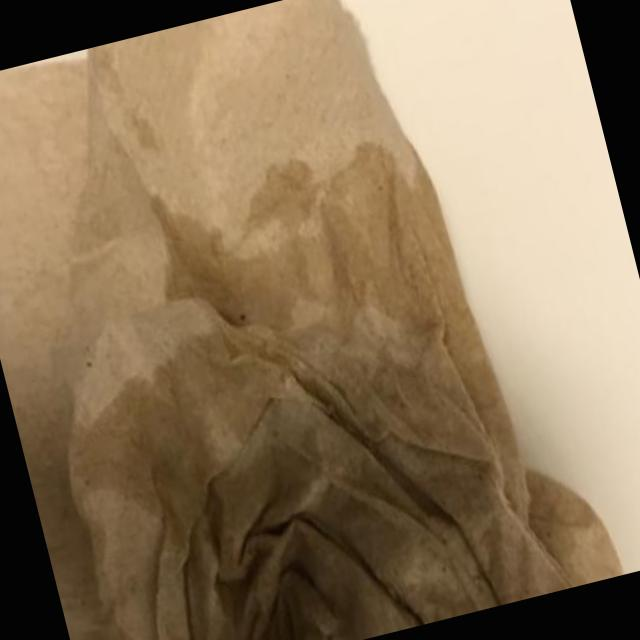giay: (0, 0, 627, 640)
